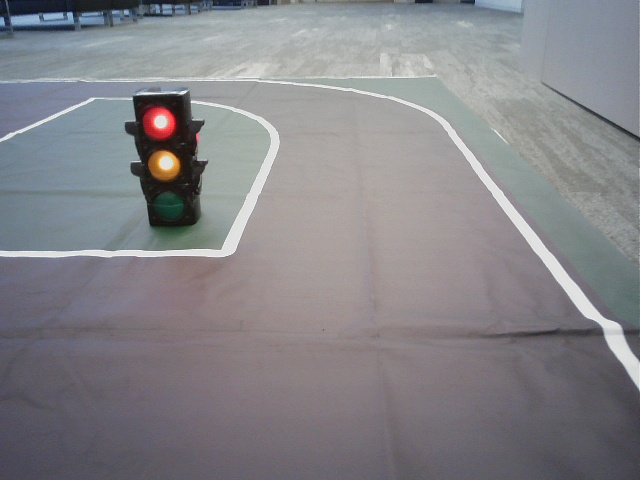red: (135, 98, 191, 221)
